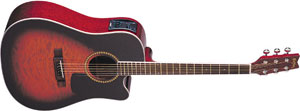guitar: (2, 1, 300, 110)
